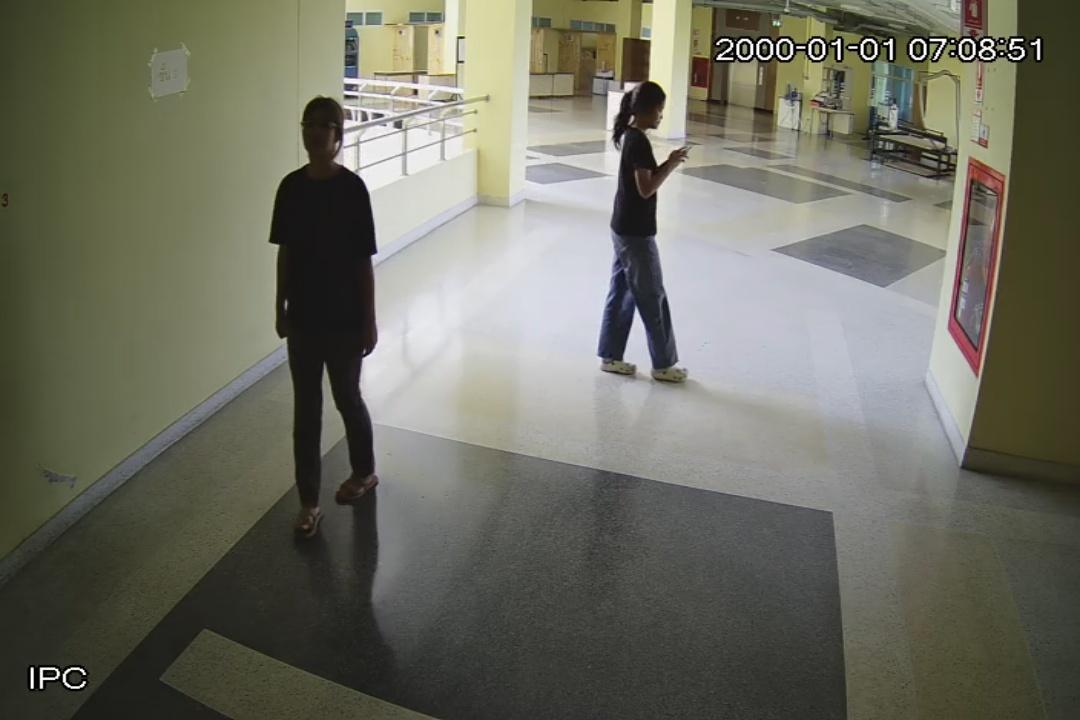normal: (264, 90, 381, 539), (588, 68, 690, 386)
